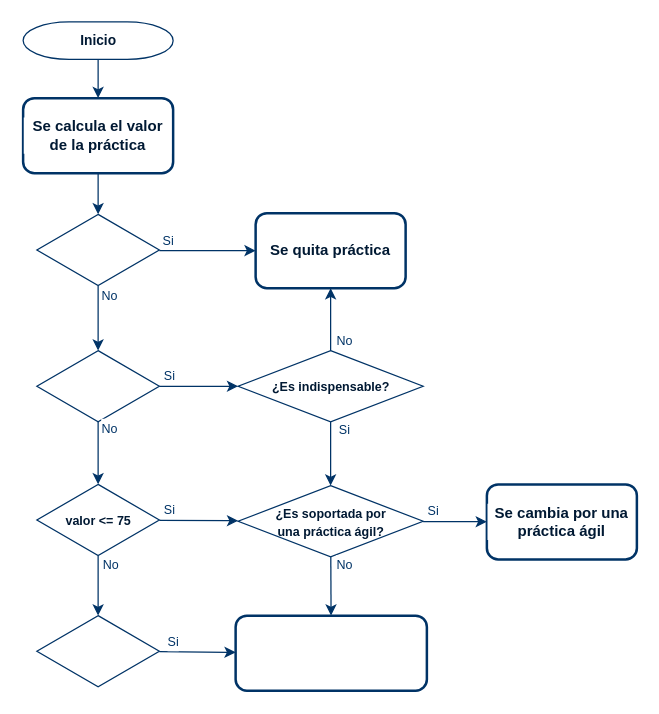
Some shapes in this 659 by 714 pixel diagram are drawn without their labels. Each missing label, with the centre of its shape:
"Se realizan sugerencias de técnicas y herramientas ligeras" belongs at point 331,652.
"valor <= 100" belongs at point 97,650.
"valor <= 25" belongs at point 97,249.
"valor <= 50" belongs at point 97,385.
